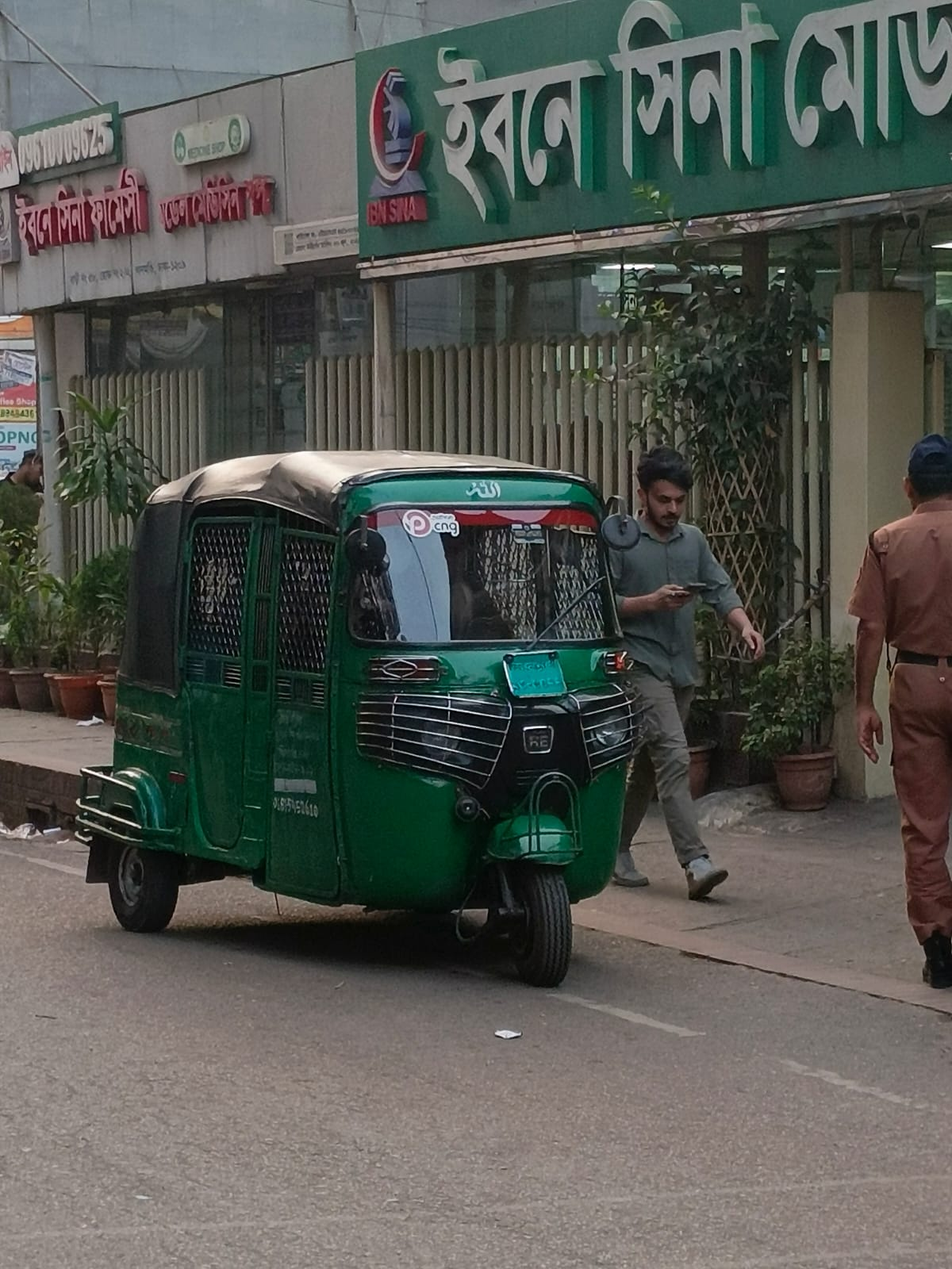cng: (79, 438, 648, 1007)
